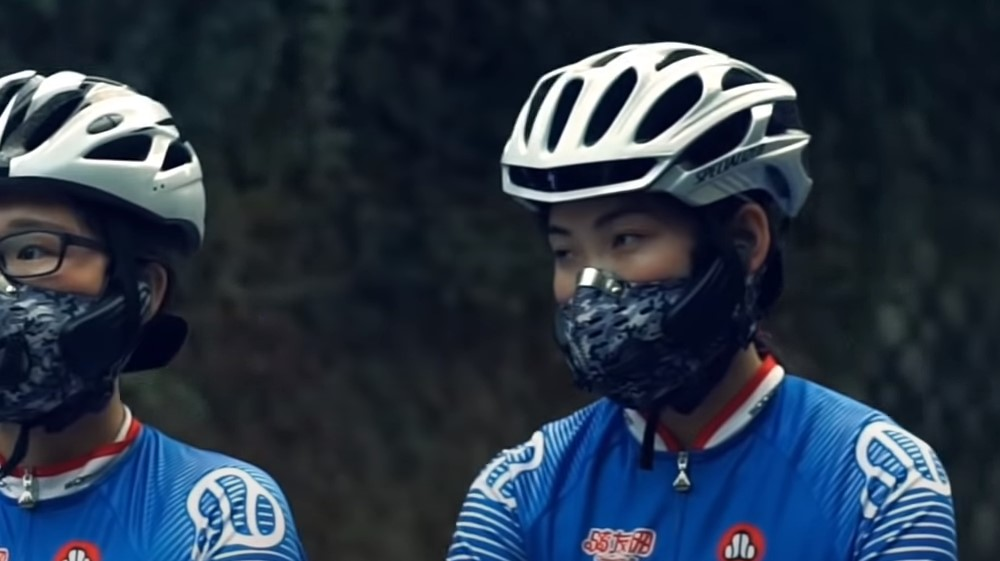face_with_mask: (493, 41, 816, 417), (0, 65, 208, 440)
